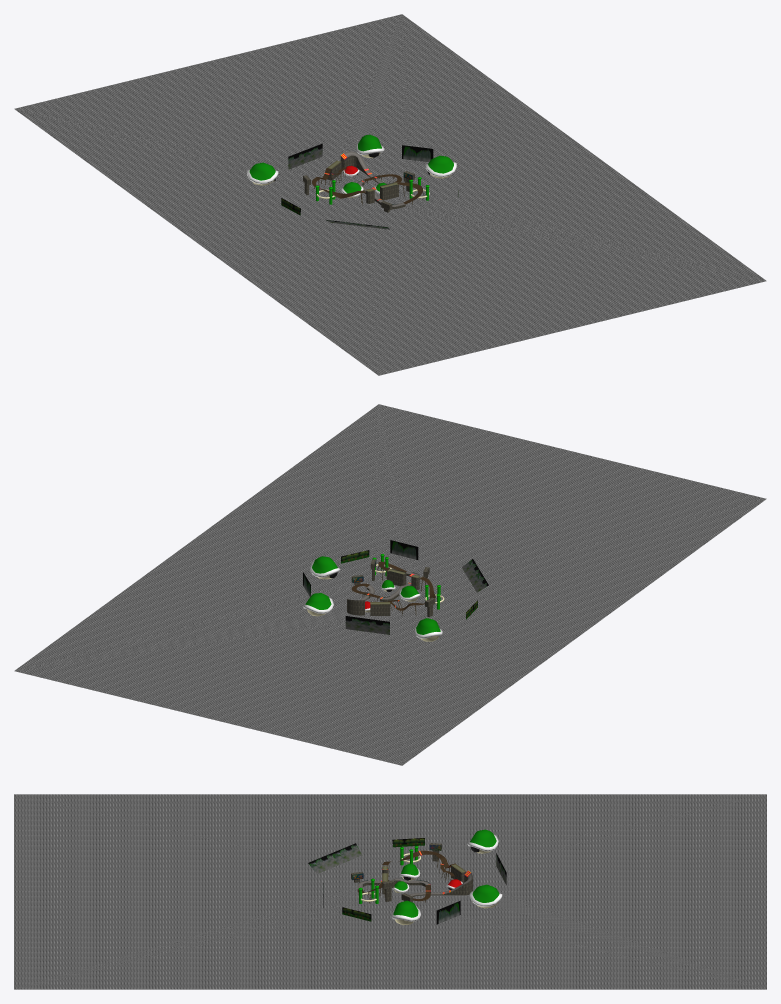
3 renders of one model, top to bottom at view 1: azimuth 30°, elevation 25°; view 2: azimuth 150°, elevation 25°; view 3: azimuth 270°, elevation 25°, orthographic. The views are drawn at different scales.
Parts seen in each view (by area): view 1: course-SKP--water.003, course-SKP--shellg.001, course-SKP--rockwall.003, course-SKP--bg1.001, course-SKP--railroad.001, course-SKP--shellwhite.001; view 2: course-SKP--water.003, course-SKP--bg1.001, course-SKP--rockwall.003, course-SKP--shellg.001, course-SKP--shellwhite.001; view 3: course-SKP--water.003, course-SKP--shellg.001, course-SKP--bg1.001, course-SKP--rockwall.003, course-SKP--shellwhite.001, course-SKP--bg2.001, course-SKP--railroad.001, course-SKP--road.008, course-SKP--pipeg.001.
Part boxes in pixels (<box>): course-SKP--water.003: <box>14,14,766,375</box>; course-SKP--shellg.001: <box>249,134,453,193</box>; course-SKP--rockwall.003: <box>303,155,414,212</box>; course-SKP--bg1.001: <box>288,143,433,229</box>; course-SKP--railroad.001: <box>312,167,422,204</box>; course-SKP--shellwhite.001: <box>247,140,456,196</box>; course-SKP--water.003: <box>14,404,766,765</box>; course-SKP--bg1.001: <box>303,540,488,634</box>; course-SKP--rockwall.003: <box>347,559,435,617</box>; course-SKP--shellg.001: <box>305,556,440,634</box>; course-SKP--shellwhite.001: <box>303,561,442,638</box>; course-SKP--water.003: <box>14,794,766,989</box>; course-SKP--shellg.001: <box>393,829,499,917</box>; course-SKP--bg1.001: <box>308,843,506,924</box>; course-SKP--rockwall.003: <box>351,843,472,902</box>; course-SKP--shellwhite.001: <box>391,834,502,921</box>; course-SKP--bg2.001: <box>342,838,424,921</box>; course-SKP--railroad.001: <box>358,850,455,901</box>; course-SKP--road.008: <box>357,873,472,896</box>; course-SKP--pipeg.001: <box>358,846,418,903</box>.
Size of the model in its own units: 275000 by 38711 by 447455.
Materials: 18 (18 with a texture image).
